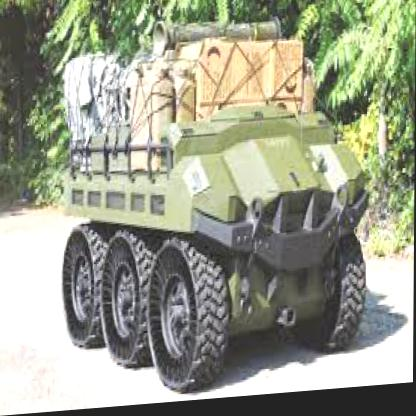UGV: (62, 102, 368, 403)
